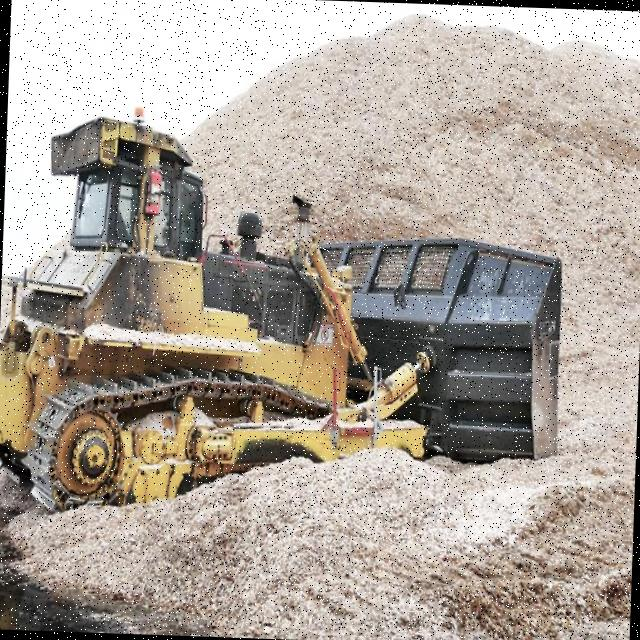Bulldozer: (0, 67, 595, 534)
